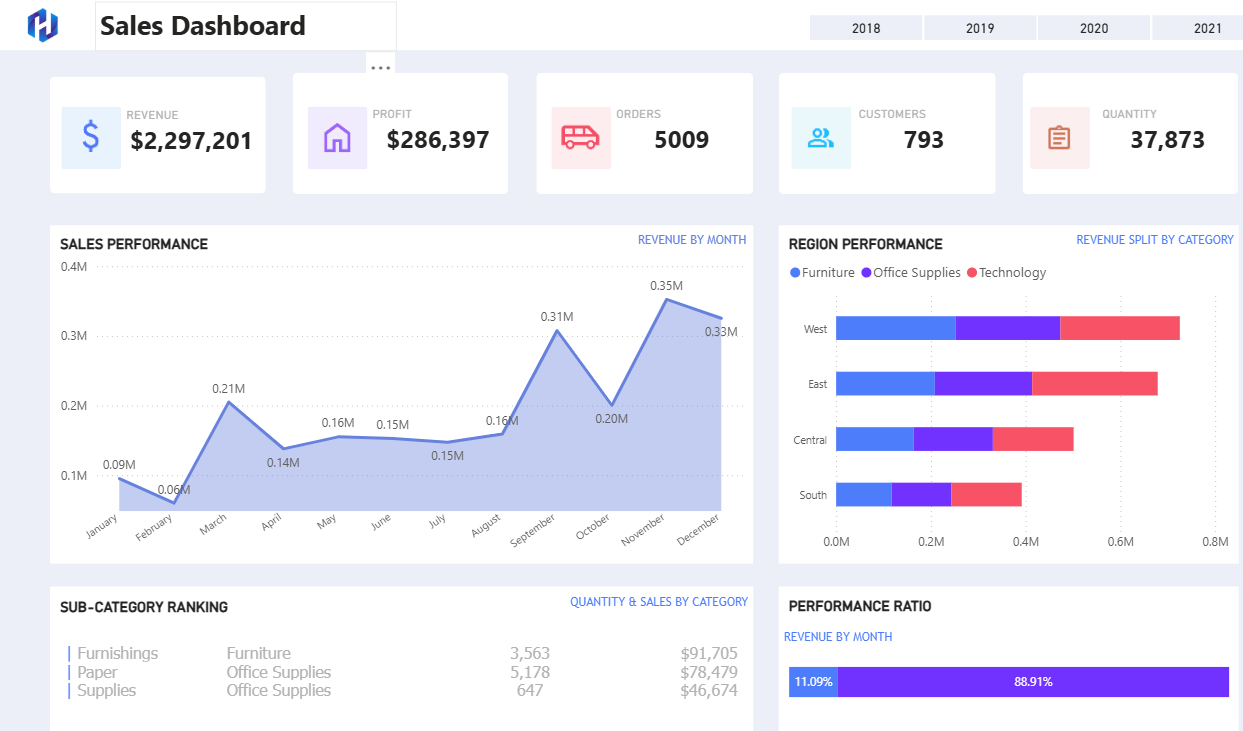

This screenshot's page, from the dashboard's own definition file:
{"tool":"powerbi","page":{"name":"Page 1","canvas":[1280,768],"ordinal":0},"visuals":[{"type":"shape","box":[0,0,1280.2,51.3],"z":0},{"type":"textbox","box":[137.5,0,301.2,50],"z":1000},{"type":"advancedSlicerVisual","fields":{"Values":["Orders.Order Date.Variation.Date Hierarchy.Year"]},"box":[809.4,16.7,455.4,25],"z":2000},{"type":"shape","box":[50,77.4,215.7,117.1],"z":3000},{"type":"shape","box":[1022.9,74.1,215.7,121.4],"z":4000},{"type":"shape","box":[292.9,74.1,215.7,121.4],"z":5000},{"type":"shape","box":[535.7,74.1,217.1,121.4],"z":6000},{"type":"shape","box":[778.6,74.1,217.1,121.4],"z":7000},{"type":"card","title":"      REVENUE","fields":{"Values":["Metrics.Formatted Revenue"]},"box":[121.2,109.1,141.2,53.8],"z":8000},{"type":"card","title":"      PROFIT","fields":{"Values":["Metrics.Formatted Profit"]},"box":[367.5,108,141.2,53.8],"z":9000},{"type":"card","title":"      ORDERS","fields":{"Values":["Metrics.Total Orders"]},"box":[611.2,108,141.2,53.8],"z":10000},{"type":"card","title":"      CUSTOMERS","fields":{"Values":["Metrics.Total Customers"]},"box":[853.8,108,141.2,53.8],"z":11000},{"type":"card","title":"      QUANTITY","fields":{"Values":["Metrics.Formatted Quantity"]},"box":[1097.5,108,141.2,53.8],"z":12000},{"type":"areaChart","title":"SALES PERFORMANCE","fields":{"Y":["Sum(Orders.Sales)"],"Category":["Orders.Order Date.Variation.Date Hierarchy.Month"]},"box":[50,226.1,702.9,338.6],"z":13000},{"type":"barChart","title":"REGION PERFORMANCE","fields":{"Category":["Orders.Region"],"Y":["Sum(Orders.Sales)"],"Series":["Orders.Category"]},"box":[778.6,226.1,460,338.6],"z":14000},{"type":"tableEx","title":"SUB-CATEGORY RANKING","fields":{"Values":["Orders.Styled SubCategory","Orders.Sub-Category","Orders.Category","Metrics.Formatted Quantity","Metrics.Formatted Revenue"]},"box":[50,587.1,702.9,161.4],"z":15000},{"type":"hundredPercentStackedBarChart","title":"PERFORMANCE RATIO","fields":{"Y":["Metrics.Revenue vs Profit %"],"Series":["RevenueProfitMetric.Metric"]},"box":[779,587,460,161],"z":16000},{"type":"textbox","box":[610,225.7,141.4,34.3],"z":17000},{"type":"textbox","box":[1037.1,225.7,201.4,34.3],"z":18000},{"type":"textbox","box":[778.6,622.9,145.7,34.3],"z":19000},{"type":"textbox","box":[508.6,587.1,244.3,35.7],"z":20000},{"type":"shape","box":[61.1,106.9,60.2,62.8],"z":21000},{"type":"shape","box":[307.1,106.9,60.2,62.8],"z":22000},{"type":"shape","box":[551.3,106.9,60.2,62.8],"z":23000},{"type":"shape","box":[791.2,106.9,60.2,62.8],"z":24000},{"type":"shape","box":[1030.1,106.9,60.2,62.8],"z":25000},{"type":"image","box":[65,111.2,51.2,51.2],"z":26000},{"type":"image","box":[550,113.8,60,50],"z":27000},{"type":"image","box":[313.8,115,47.5,47.5],"z":28000},{"type":"image","box":[801.2,120,38.8,37.5],"z":29000},{"type":"image","box":[1040,116.2,38.8,46.2],"z":30000},{"type":"image","box":[6.2,0,43.8,51.2],"z":31000},{"type":"textbox","box":[37.5,28.8,300,35],"z":32000},{"type":"textbox","box":[682,14.2,127.4,29.6],"z":32001}]}

Visuals, with their boxes in screenshot pixels (x1, y1, x2, y2), scaled from the page's 1280x768 canvas onto the 1243x731 screenshot:
shape: (0,0,1242,49)
textbox: (134,0,426,48)
advancedSlicerVisual - Orders.Order Date.Variation.Date Hierarchy.Year: (786,16,1228,40)
shape: (49,74,258,185)
shape: (993,71,1203,186)
shape: (284,71,494,186)
shape: (520,71,731,186)
shape: (756,71,967,186)
"      REVENUE" card: (118,104,255,155)
"      PROFIT" card: (357,103,494,154)
"      ORDERS" card: (594,103,731,154)
"      CUSTOMERS" card: (829,103,966,154)
"      QUANTITY" card: (1066,103,1203,154)
"SALES PERFORMANCE" areaChart: (49,215,731,537)
"REGION PERFORMANCE" barChart: (756,215,1203,537)
"SUB-CATEGORY RANKING" tableEx: (49,559,731,712)
"PERFORMANCE RATIO" hundredPercentStackedBarChart: (756,559,1203,712)
textbox: (592,215,730,247)
textbox: (1007,215,1203,247)
textbox: (756,593,898,626)
textbox: (494,559,731,593)
shape: (59,102,118,162)
shape: (298,102,357,162)
shape: (535,102,594,162)
shape: (768,102,827,162)
shape: (1000,102,1059,162)
image: (63,106,113,155)
image: (534,108,592,156)
image: (305,109,351,155)
image: (778,114,816,150)
image: (1010,111,1048,155)
image: (6,0,49,49)
textbox: (36,27,328,61)
textbox: (662,14,786,42)
